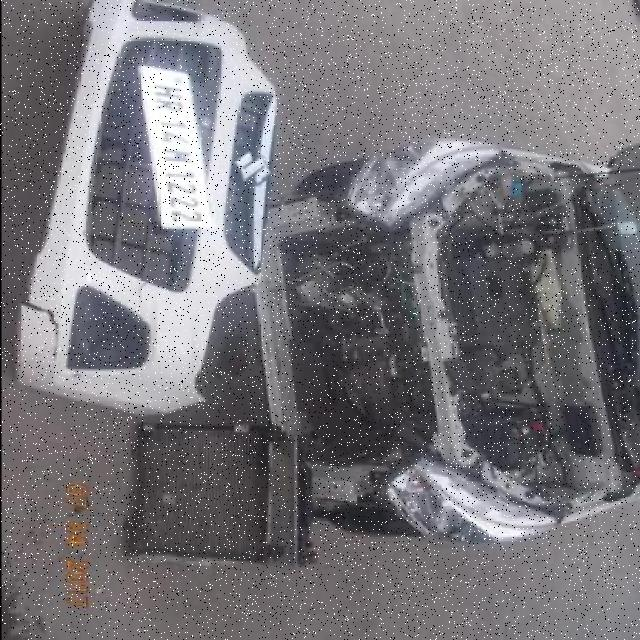damage: (247, 158, 484, 537)
